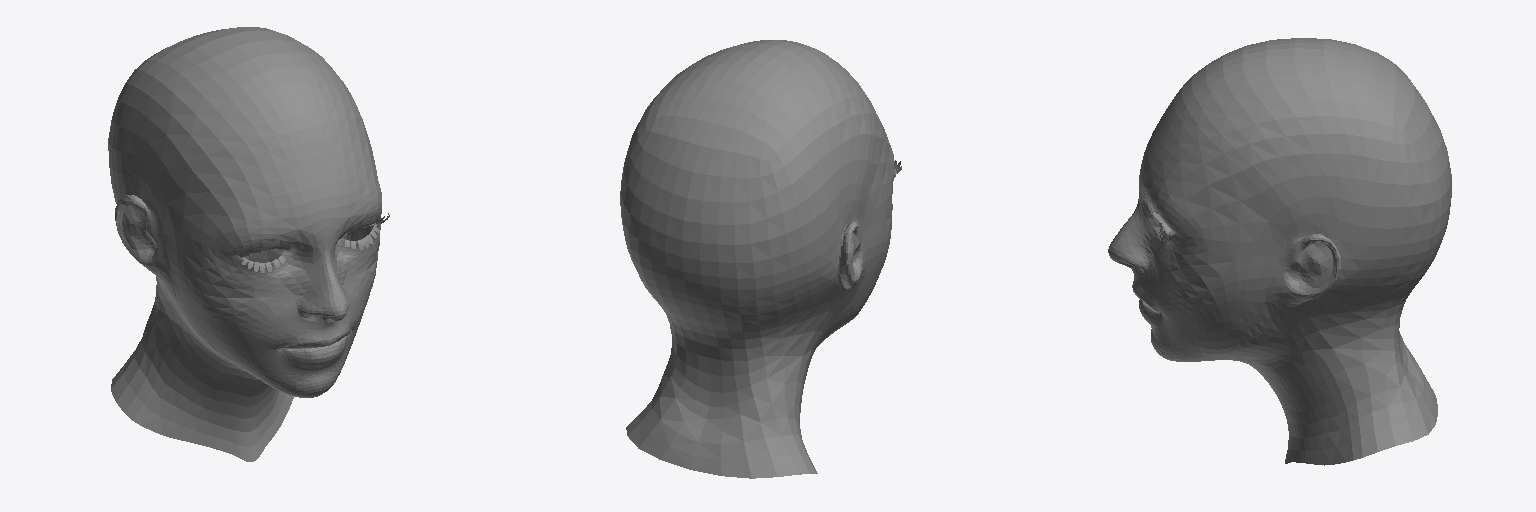
File: UrsulaHead.obj
3 views of the same model, side by side, from view 1: azimuth 30°, elevation 25°; view 2: azimuth 150°, elevation 25°; view 3: azimuth 270°, elevation 25° (orthographic).
Visible parts, largest first — view 1: Plane_012; view 2: Plane_012; view 3: Plane_012.
Boxes of the visible parts, x1=… form: Plane_012: x1=108, y1=27, x2=389, y2=461; Plane_012: x1=620, y1=40, x2=901, y2=478; Plane_012: x1=1108, y1=38, x2=1451, y2=465.
Size of the model in its own units: 7.03 by 12.58 by 9.43.